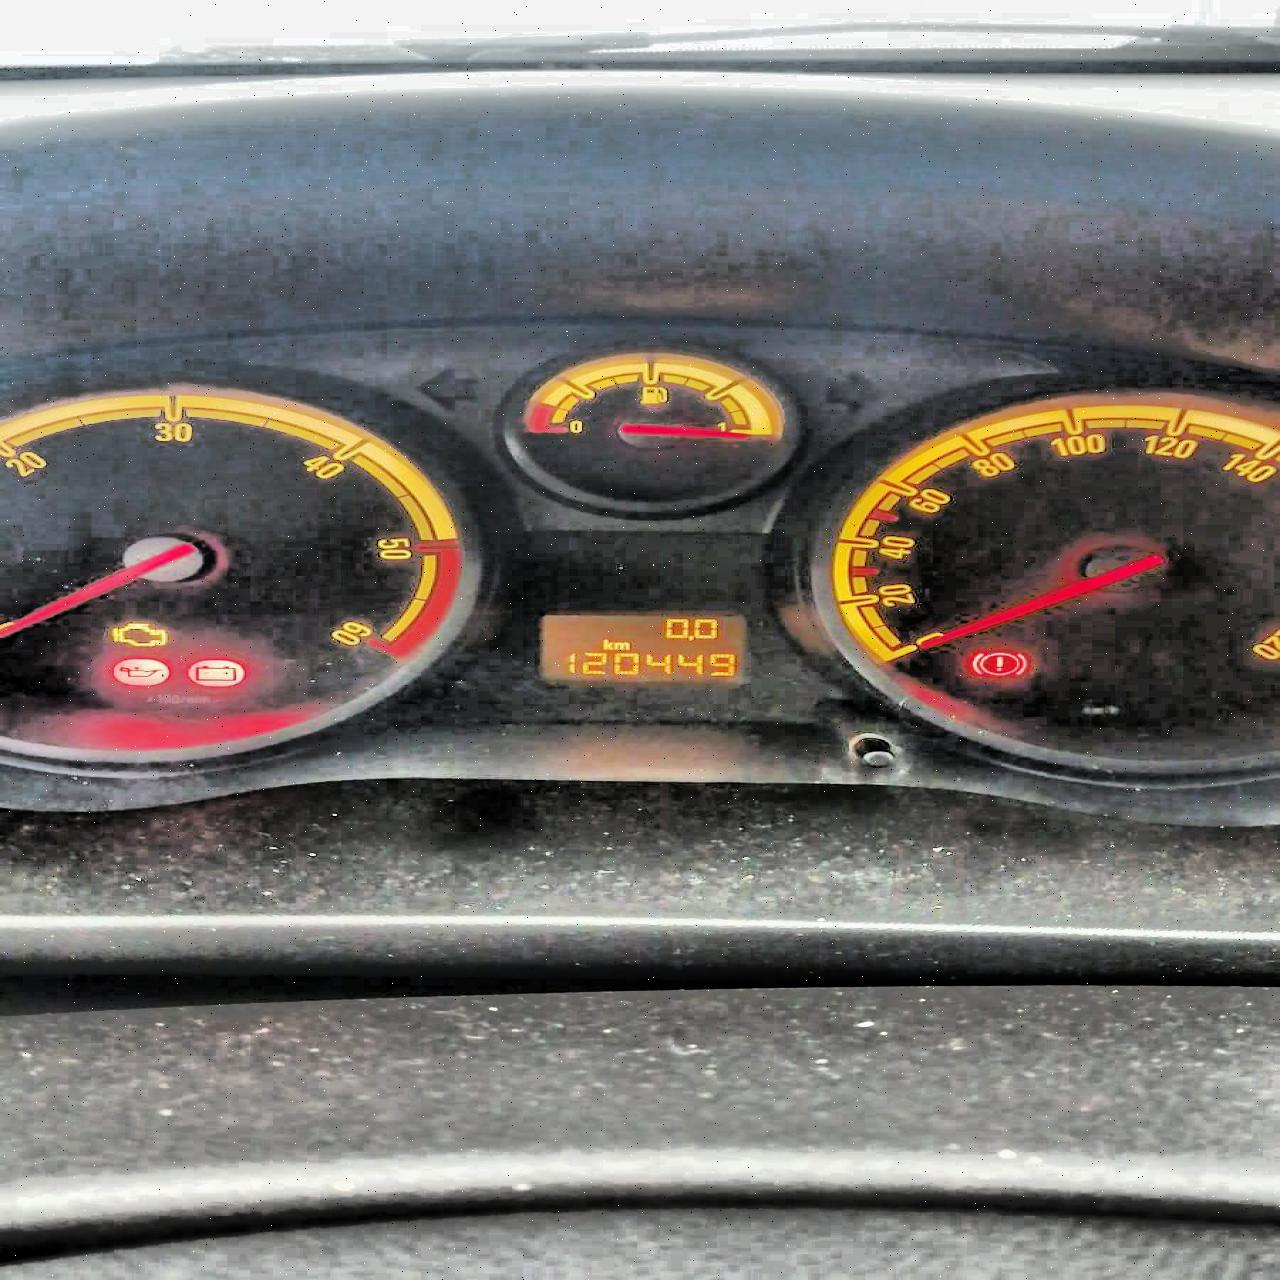-: (687, 635, 693, 641)
0: (612, 652, 639, 674), (692, 619, 716, 639), (663, 619, 687, 639)
1: (566, 652, 576, 673)
2: (580, 652, 606, 674)
4: (675, 653, 702, 674), (645, 652, 669, 674)
9: (707, 653, 734, 675)
X: (612, 641, 628, 649), (601, 639, 612, 649)
odometer: (536, 613, 747, 686)
